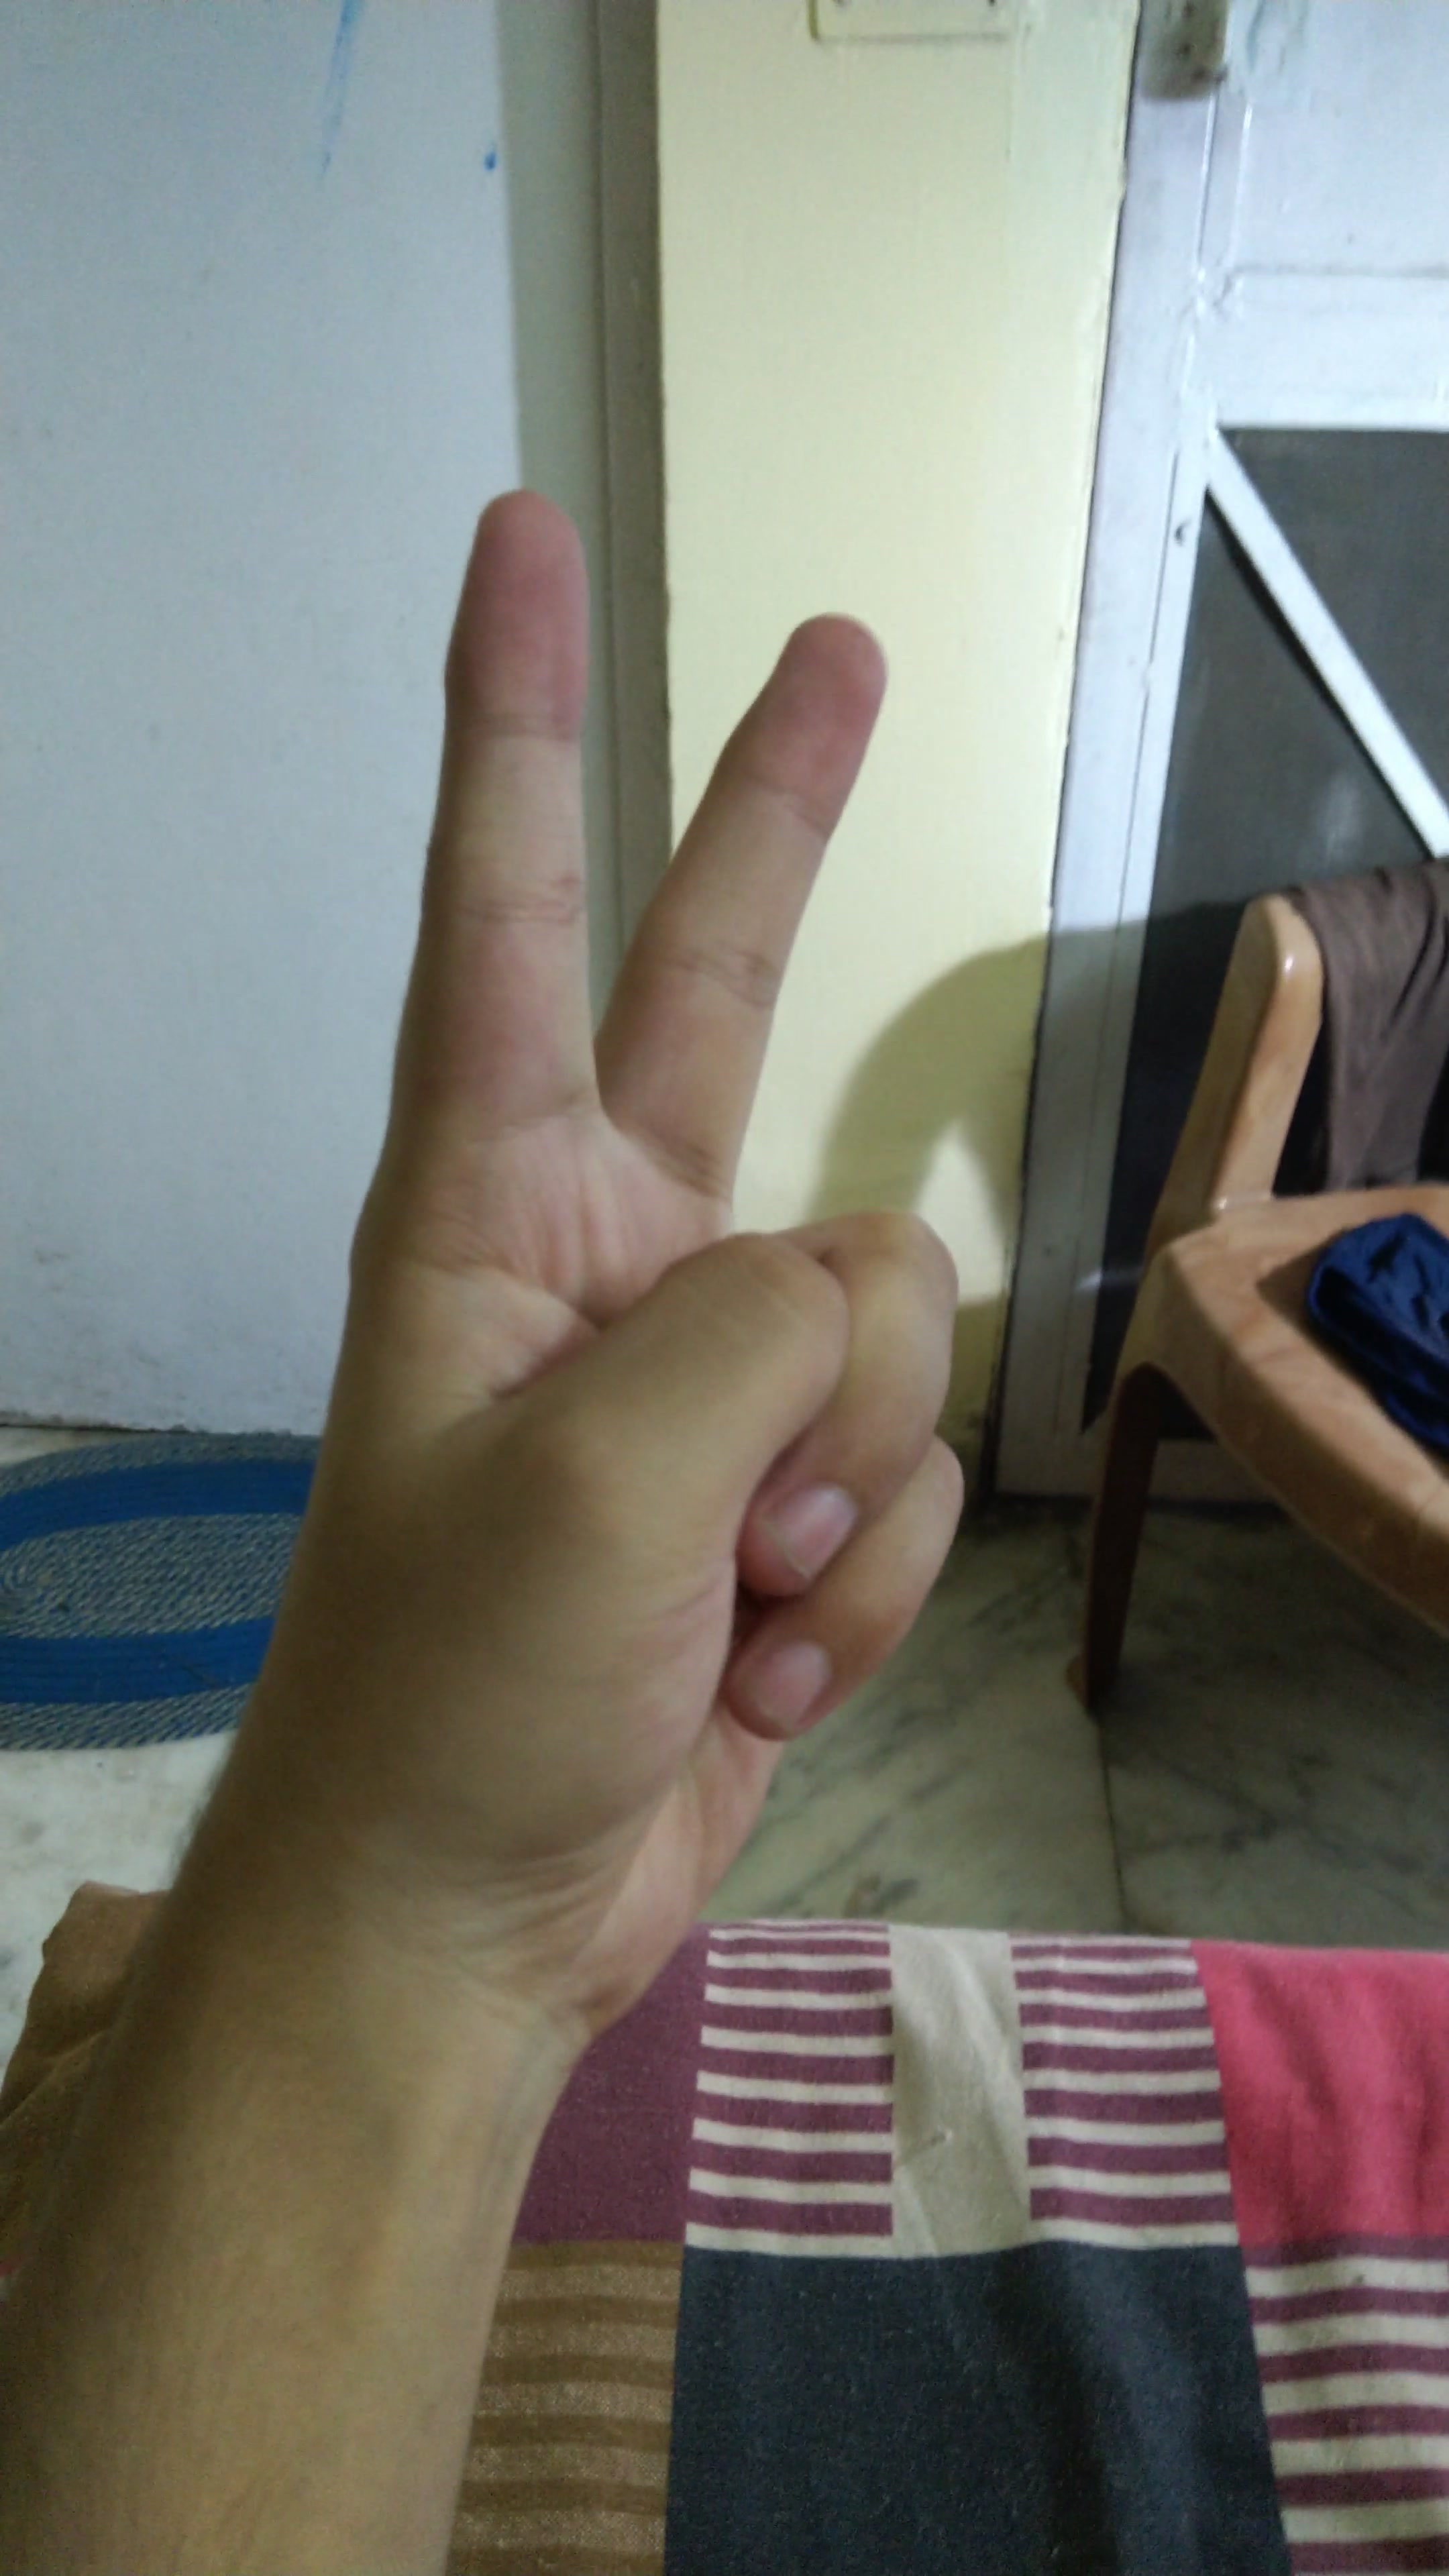hand: (119, 451, 1074, 2051)
